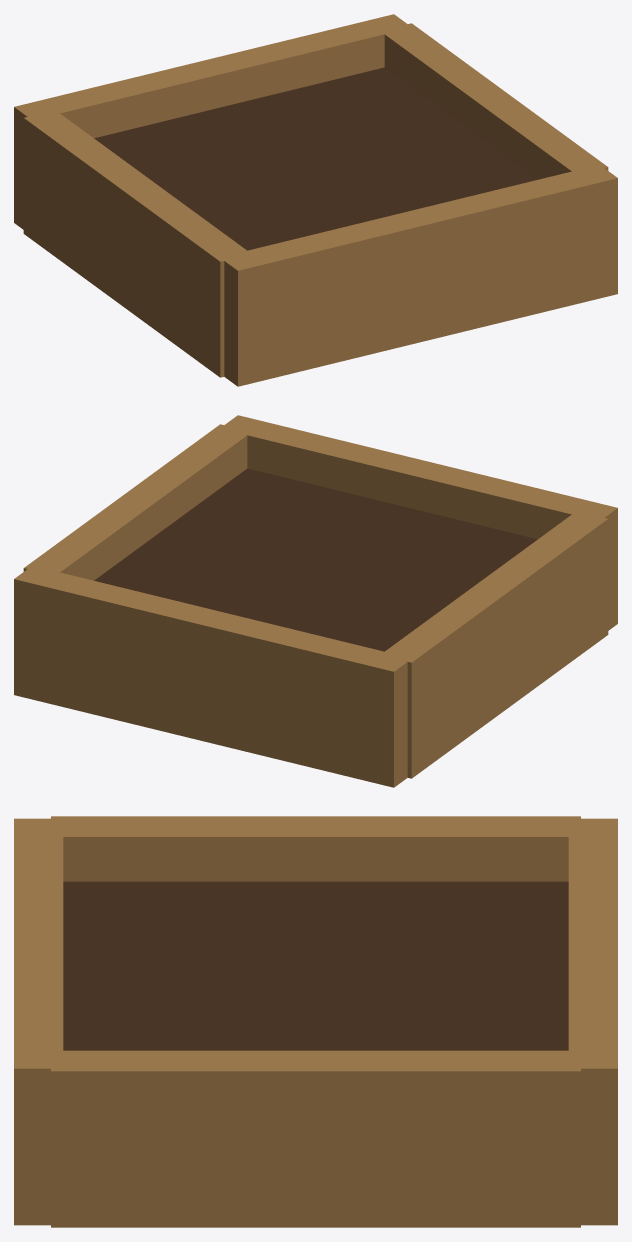
Rendered from garden_bed.obj.
3 views of the same model, one above another, from view 1: azimuth 30°, elevation 25°; view 2: azimuth 150°, elevation 25°; view 3: azimuth 270°, elevation 25° (orthographic). The views are drawn at different scales.
Visible parts, largest first — view 1: part_1, part_0, part_4, part_2, part_3; view 2: part_2, part_0, part_4, part_1, part_3; view 3: part_3, part_0, part_4, part_2, part_1.
Part boxes in pixels (x1,y1,x2,y2): part_1: (220,164,617,386); part_0: (94,67,537,250); part_4: (23,113,249,377); part_2: (14,14,411,229); part_3: (384,23,608,179); part_2: (14,565,411,787); part_0: (94,468,537,651); part_4: (381,514,608,778); part_1: (220,415,617,630); part_3: (23,424,247,580); part_3: (51,1050,580,1227); part_0: (63,881,568,1050); part_4: (51,816,580,881); part_2: (568,818,617,1225); part_1: (14,818,63,1225).
Bounding box in the file's own units: 0.98 × 0.28 × 0.98.
